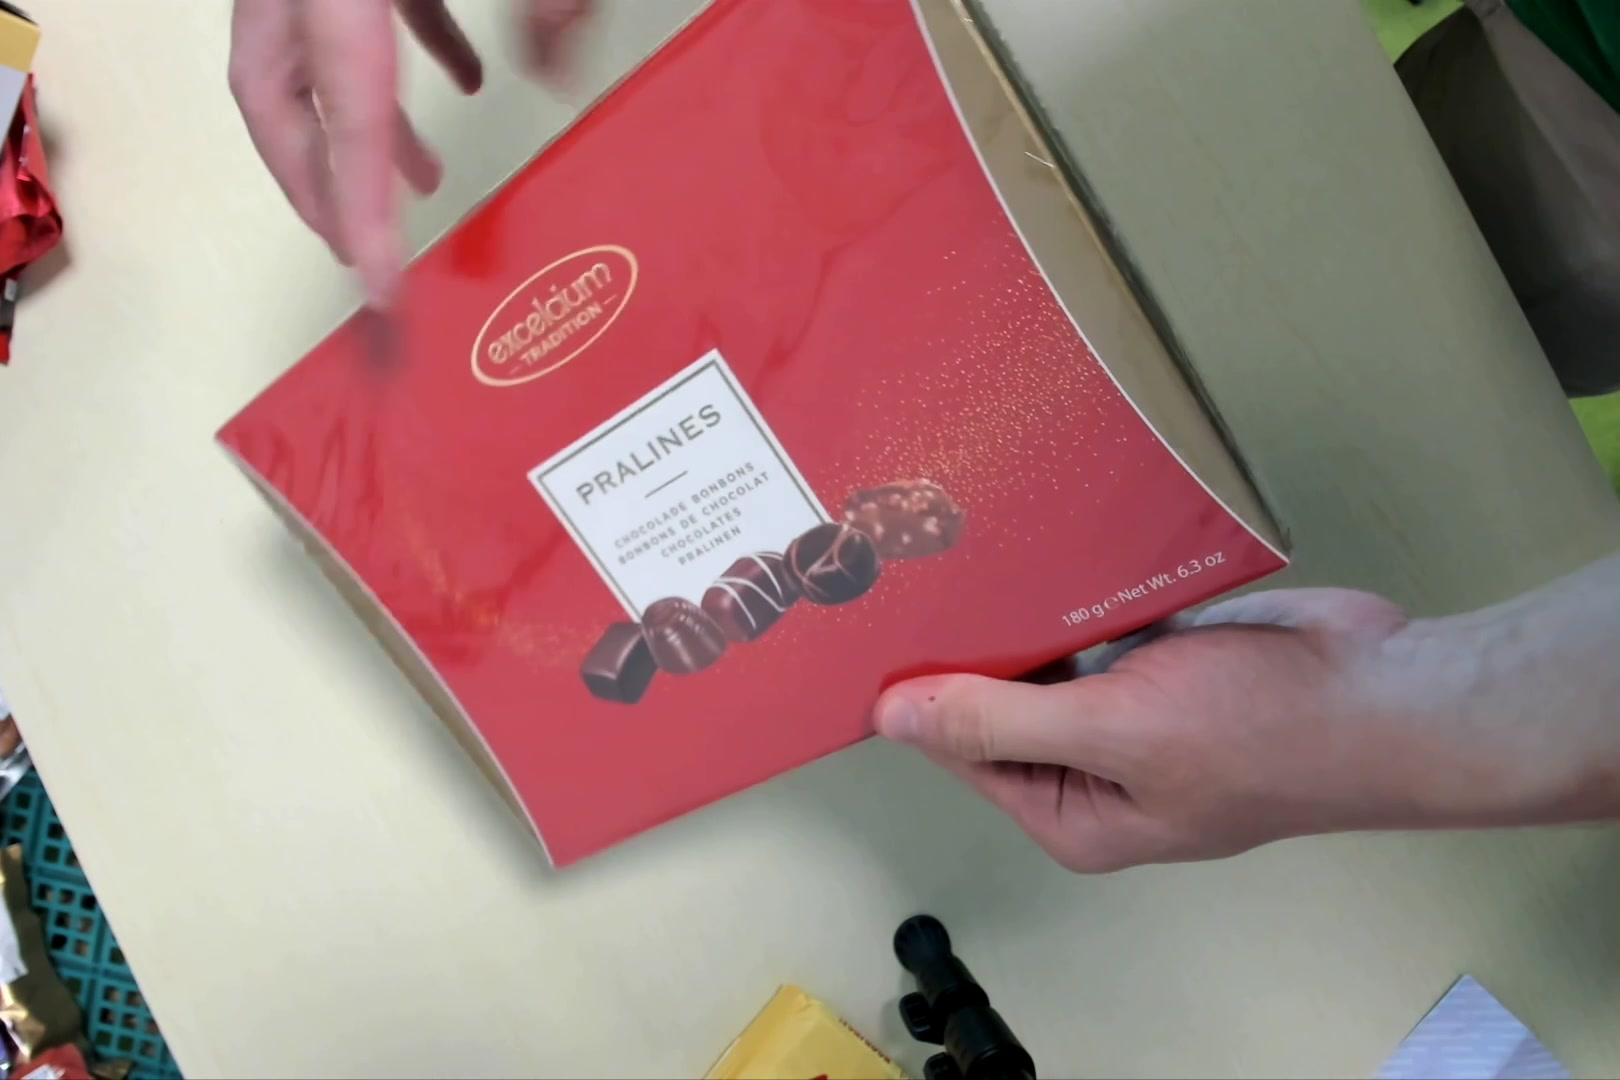SweetsChocolatesOthers_100-199g_NonHalal_NonHealthy: (222, 13, 1298, 876)
